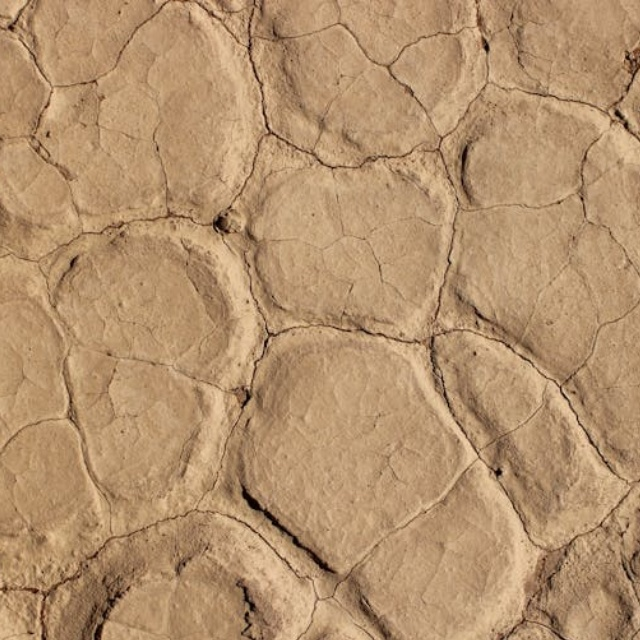细微裂纹: (269, 244, 640, 640), (262, 276, 640, 595), (0, 163, 141, 629), (379, 0, 513, 445), (0, 333, 190, 640), (365, 461, 568, 640), (0, 523, 186, 613), (0, 562, 180, 640)
网状裂隙: (0, 0, 468, 560), (349, 0, 640, 538)
